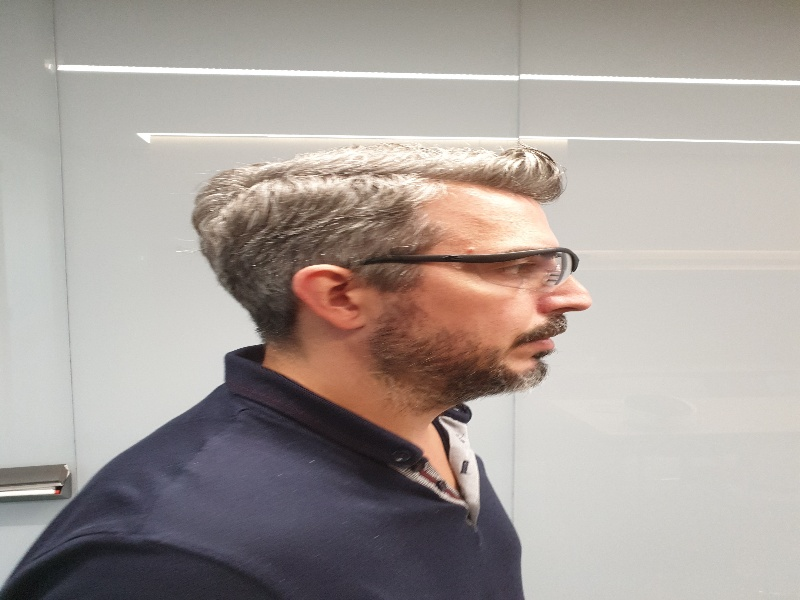Gozluk: (384, 245, 582, 289)
